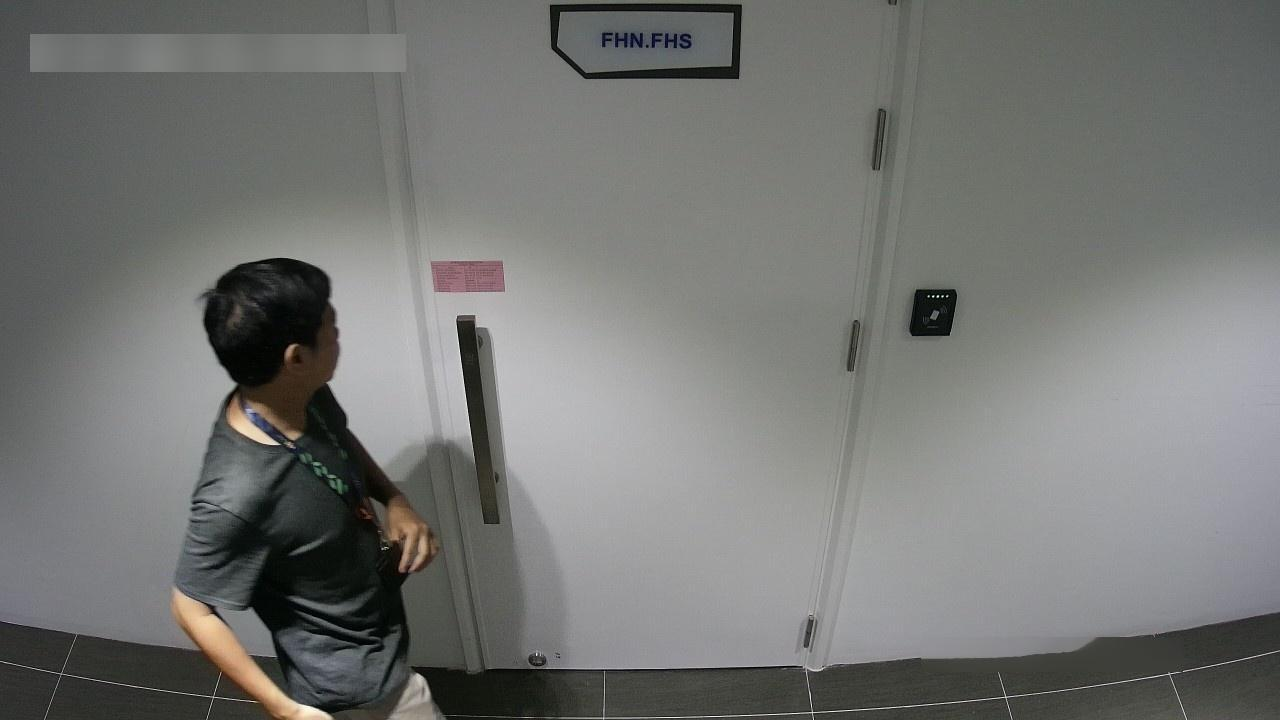no_apron: (365, 474, 453, 588), (246, 687, 346, 720)
no_gloves: (180, 228, 348, 400)
no_hairnet: (295, 295, 353, 389)
